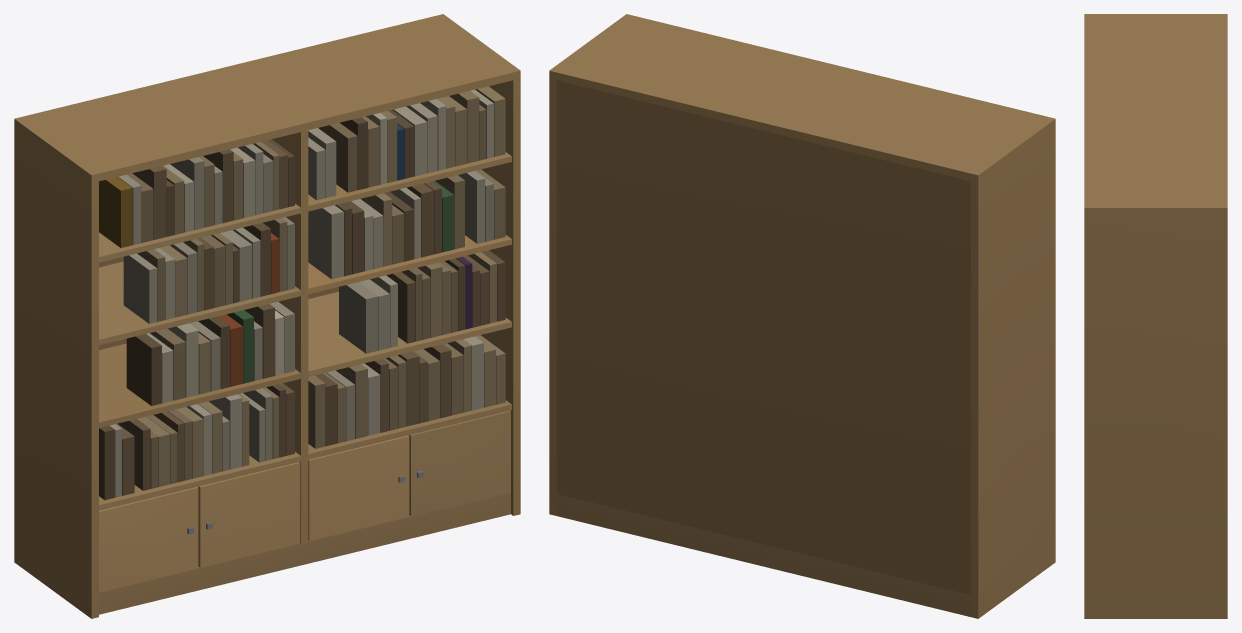
The model's file is bookcase.wide.archive.glb.
The picture shows the model from 3 angles, left to right: view 1: azimuth 30°, elevation 25°; view 2: azimuth 150°, elevation 25°; view 3: azimuth 270°, elevation 25°; orthographic projection. The views are drawn at different scales.
Visible parts, largest first — view 1: bookcase_wide_archive; view 2: bookcase_wide_archive; view 3: bookcase_wide_archive.
Boxes of the visible parts, left/top/right/bottom form: bookcase_wide_archive: left=14, top=14, right=520, bottom=618; bookcase_wide_archive: left=549, top=14, right=1055, bottom=618; bookcase_wide_archive: left=1084, top=14, right=1227, bottom=618.
Size of what is drawn, in the model's own units: 2.03 by 2 by 0.633.
